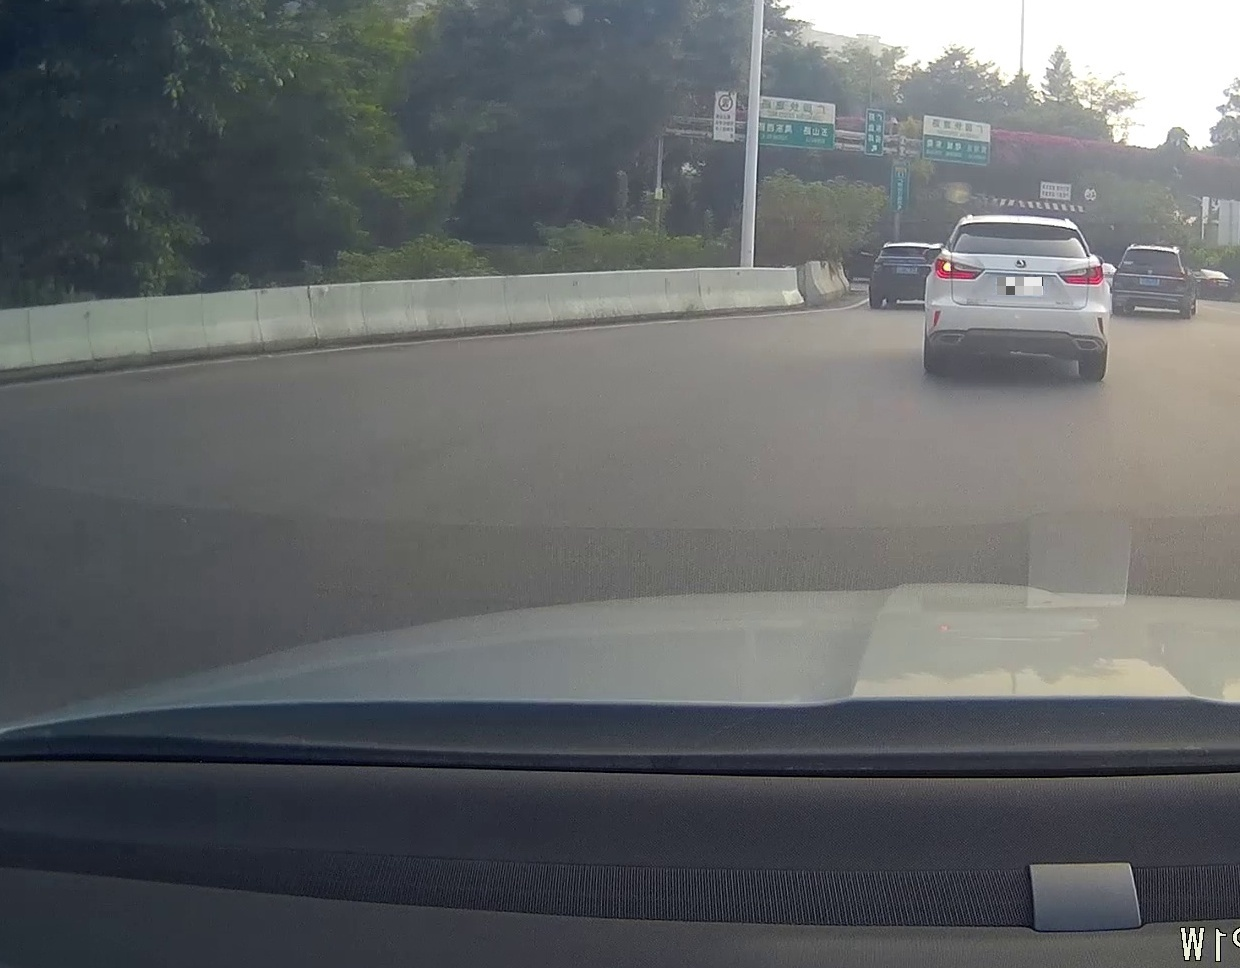L_light: (935, 258, 985, 281), (1114, 274, 1131, 282)
R_light: (1057, 265, 1104, 285), (1171, 278, 1186, 285)
T_light: (1008, 223, 1034, 228), (1146, 250, 1158, 254)
day-left: (924, 216, 1108, 378)
day-no: (1111, 245, 1190, 318)
plate_1: (997, 277, 1043, 295)
